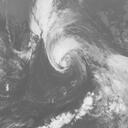cyclone: (45, 30, 89, 72)
